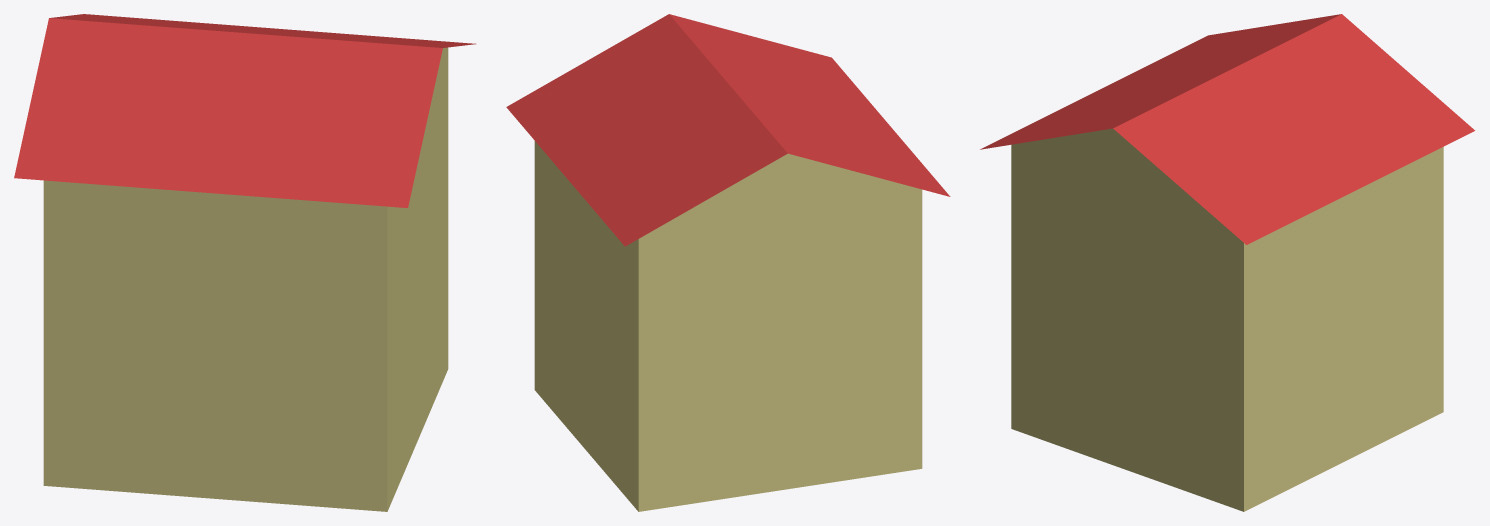
3 renders of one model, left to right at view 1: azimuth 30°, elevation 25°; view 2: azimuth 150°, elevation 25°; view 3: azimuth 270°, elevation 25°, orthographic. The views are drawn at different scales.
Parts seen in each view (by area): view 1: group_5, group_3, group_4; view 2: group_5, group_3, group_4; view 3: group_5, group_3, group_4.
Part boxes in pixels (box(x1,y1,x2,y2)): group_5: box(43, 47, 448, 511); group_3: box(20, 16, 446, 207); group_4: box(14, 14, 475, 207); group_5: box(534, 141, 922, 511); group_3: box(535, 14, 921, 225); group_4: box(506, 14, 950, 246); group_5: box(1011, 128, 1443, 511); group_3: box(980, 14, 1443, 242); group_4: box(986, 14, 1475, 244).
Size of the model in its own units: 16.49 by 16.47 by 12.8.
